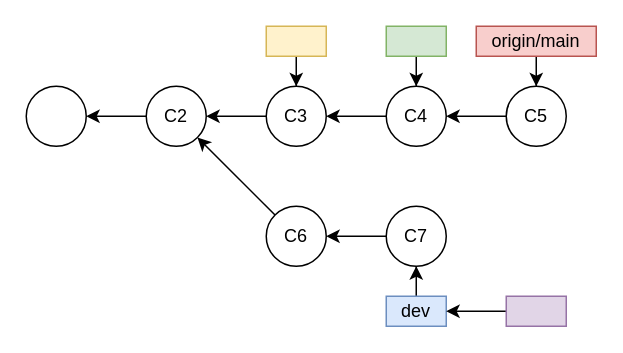
Image size: 623x353. Some labels were removed from this diagram. The centre of each missing label's shape, as x and y in pixels:
"C1" belongs at point (55, 115).
"HEAD" belongs at point (535, 310).
"main" belongs at point (415, 40).
"v1.0" belongs at point (295, 40).
